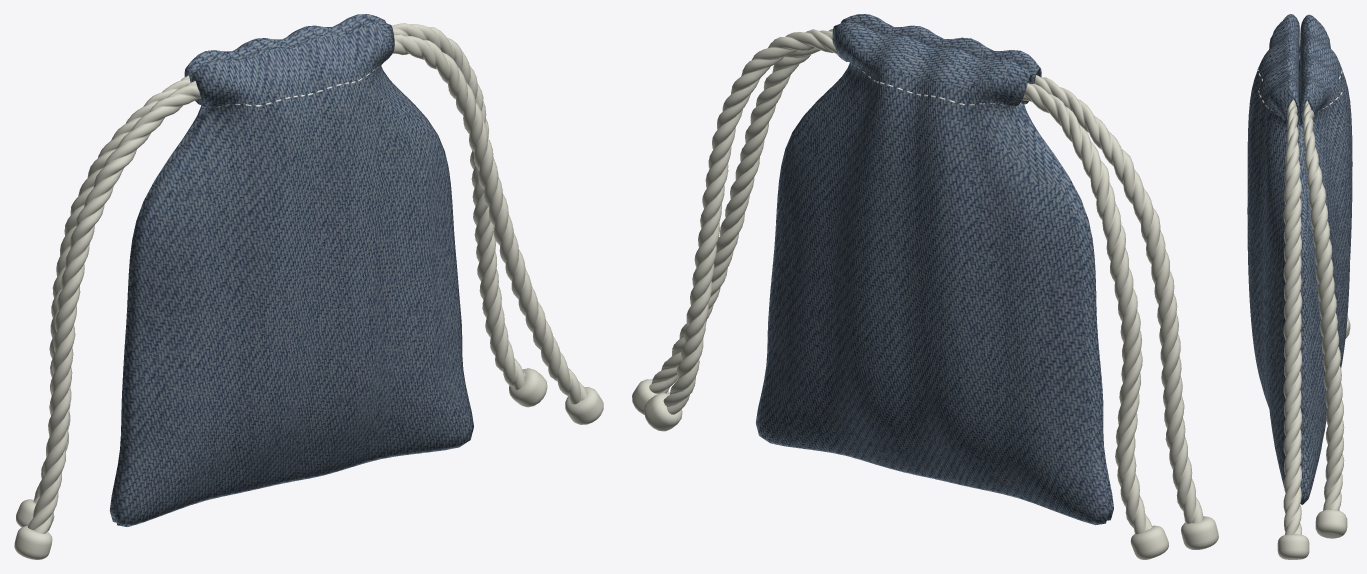
Rendered from stringbag.glb.
3 renders of one model, left to right at view 1: azimuth 30°, elevation 25°; view 2: azimuth 150°, elevation 25°; view 3: azimuth 270°, elevation 25°, orthographic. The views are drawn at different scales.
Parts seen in each view (by area): view 1: uiy, Circle.001, Cylinder.001; view 2: uiy, Circle.001, Cylinder.001; view 3: uiy, Circle.001, Cylinder.001.
Boxes of the visible parts, bbox=[...] form: uiy: bbox=[109, 14, 473, 526]; Circle.001: bbox=[28, 23, 587, 533]; Cylinder.001: bbox=[14, 368, 603, 559]; uiy: bbox=[756, 14, 1113, 525]; Circle.001: bbox=[649, 29, 1203, 534]; Cylinder.001: bbox=[632, 379, 1218, 559]; uiy: bbox=[1247, 14, 1352, 504]; Circle.001: bbox=[1283, 29, 1344, 534]; Cylinder.001: bbox=[1277, 317, 1350, 559].
Bounding box in the file's own units: 18.61 × 13.82 × 3.36.
3 materials, 1 textured.
